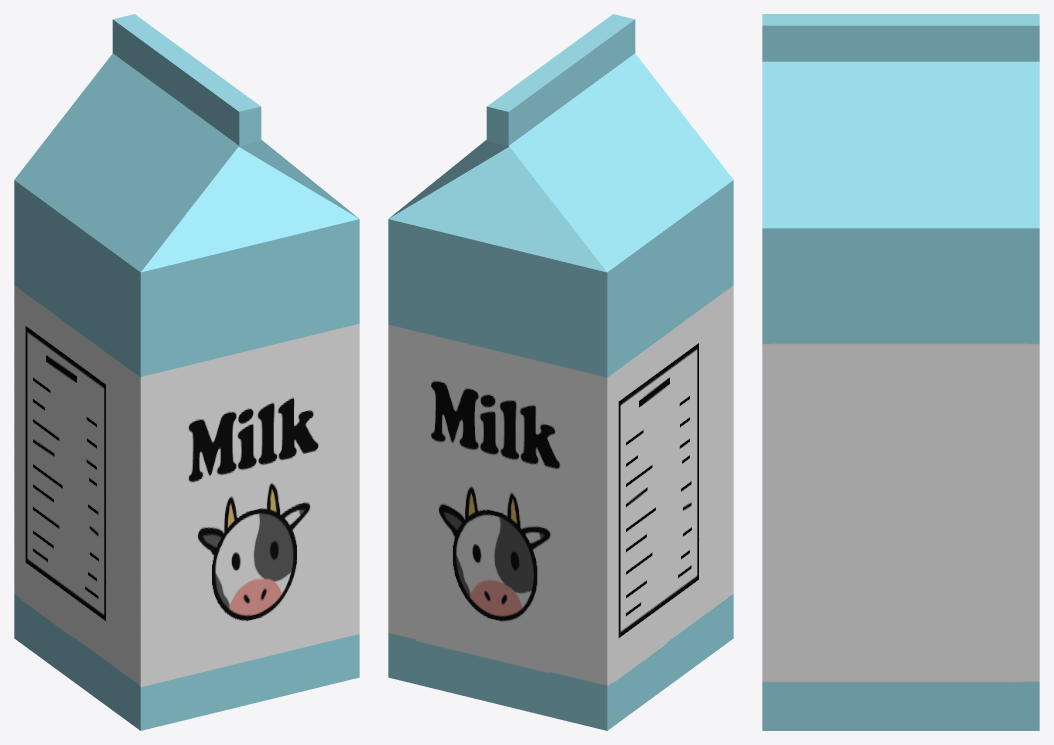
The model's file is milk.fbx.
3 renders of one model, left to right at view 1: azimuth 30°, elevation 25°; view 2: azimuth 150°, elevation 25°; view 3: azimuth 270°, elevation 25°, orthographic. The views are drawn at different scales.
Visible parts, largest first — view 1: Cube.001_0; view 2: Cube.001_0; view 3: Cube.001_0.
Part boxes in pixels (box(x1,y1,x2,y2)): Cube.001_0: box(14, 14, 359, 730); Cube.001_0: box(388, 14, 733, 730); Cube.001_0: box(762, 14, 1039, 730).
Bounding box in the file's own units: 16.5 × 42.84 × 16.5.
